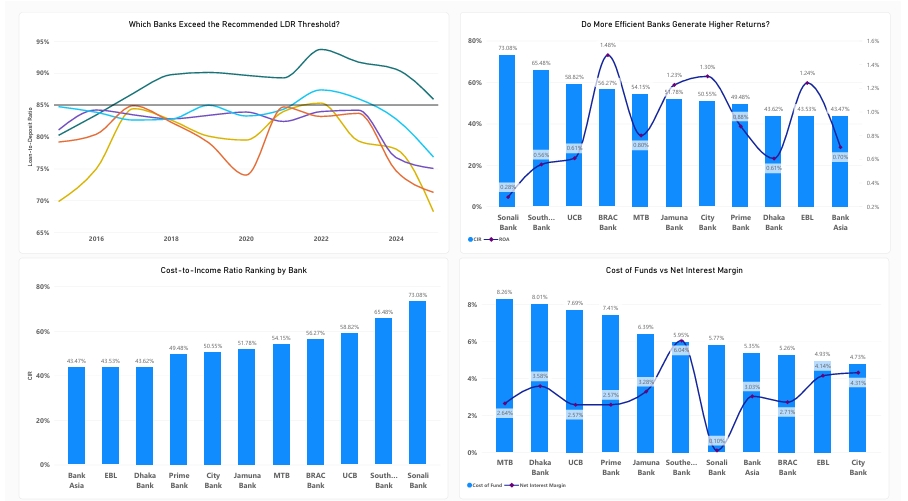

The page's visual inventory and layout, read from the dashboard file:
{"tool":"powerbi","page":{"name":"Liquidity & Efficiency","canvas":[1920,1080],"ordinal":3},"visuals":[{"type":"lineChart","title":"Which Banks Exceed the Recommended LDR Threshold?","fields":{"Category":["Reported_Ratios_cleaned.Year"],"Series":["Bank_Master.Short_Name"],"Y":["Avg(Reported_Ratios_cleaned.LDR)"]},"box":[29.4,23.5,922.5,517.5],"z":0},{"type":"columnChart","title":"Cost-to-Income Ratio Ranking by Bank","fields":{"Category":["Bank_Master.Short_Name"],"Y":["Avg(Reported_Ratios_cleaned.CIR)"]},"box":[29.4,550,920.6,517.6],"z":1000},{"type":"lineStackedColumnComboChart","title":"Cost of Funds vs Net Interest Margin","fields":{"Category":["Bank_Master.Short_Name"],"Y":["Avg(Reported_Ratios_cleaned.Cost_of_Fund)"],"Y2":["Avg(Reported_Ratios_cleaned.Net_Interest_Margin)"]},"box":[972.7,550,922.7,518.2],"z":2000},{"type":"lineStackedColumnComboChart","title":"Do More Efficient Banks Generate Higher Returns?","fields":{"Category":["Bank_Master.Short_Name"],"Y":["Avg(Reported_Ratios_cleaned.CIR)"],"Y2":["Avg(Reported_Ratios_cleaned.ROA)"]},"box":[975,22.5,922.7,518.2],"z":3000}]}

Visuals, with their boxes in screenshot pixels (x1, y1, x2, y2), scaled from the page's 1920x1080 canvas onto the 908x501 screenshot:
"Which Banks Exceed the Recommended LDR Threshold?" lineChart: [x1=14, y1=11, x2=450, y2=251]
"Cost-to-Income Ratio Ranking by Bank" columnChart: [x1=14, y1=255, x2=449, y2=495]
"Cost of Funds vs Net Interest Margin" lineStackedColumnComboChart: [x1=460, y1=255, x2=896, y2=496]
"Do More Efficient Banks Generate Higher Returns?" lineStackedColumnComboChart: [x1=461, y1=10, x2=897, y2=251]
